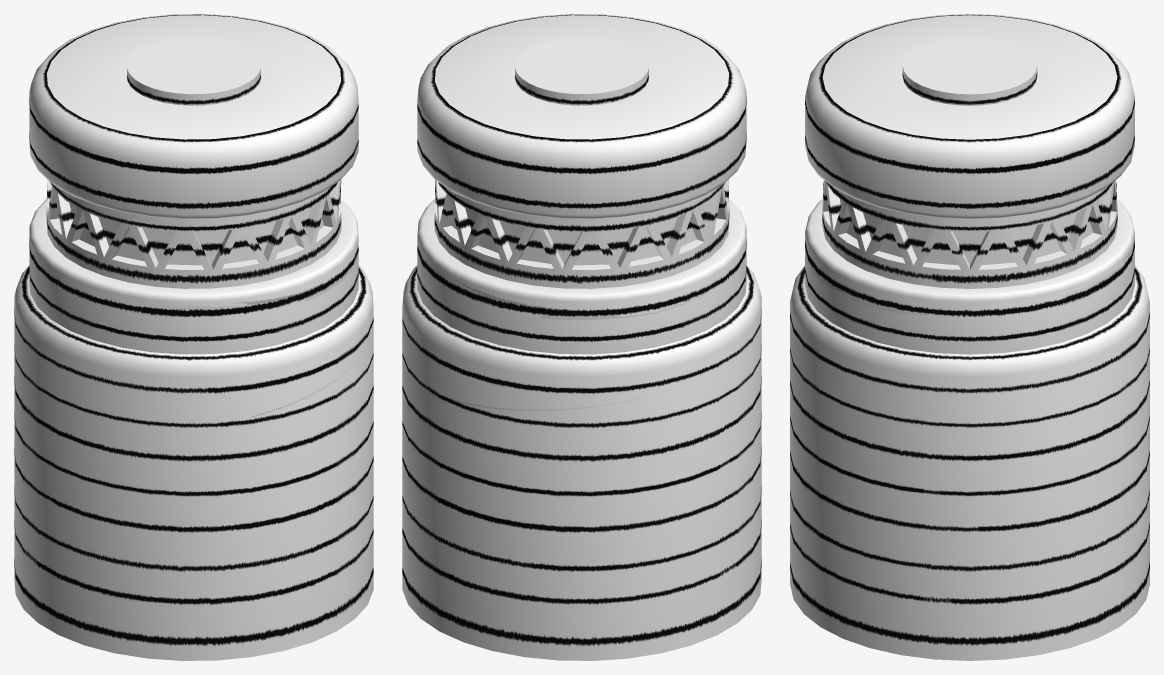
Rendered from PilaarFinal.fbx.
3 views of the same model, side by side, from view 1: azimuth 30°, elevation 25°; view 2: azimuth 150°, elevation 25°; view 3: azimuth 270°, elevation 25° (orthographic).
Parts seen in each view (by area): view 1: Cylinder; view 2: Cylinder; view 3: Cylinder.
Boxes of the visible parts, left/top/right/bottom form: Cylinder: left=14, top=14, right=373, bottom=660; Cylinder: left=402, top=14, right=761, bottom=660; Cylinder: left=790, top=14, right=1149, bottom=660.
Size of the model in its own units: 64.7 by 103 by 64.7.
1 material, 1 textured.
